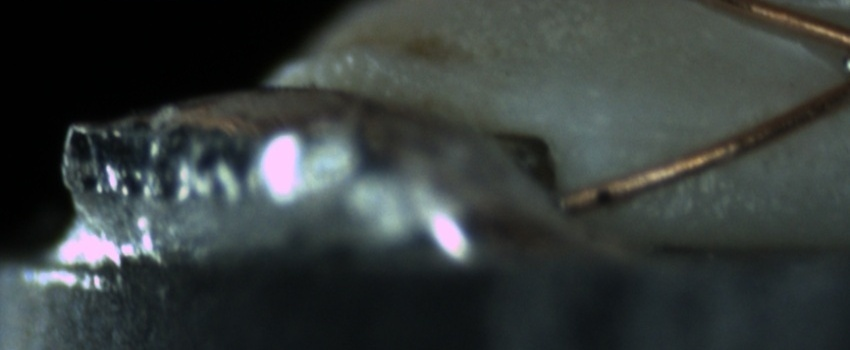DL: (592, 108, 743, 166)
